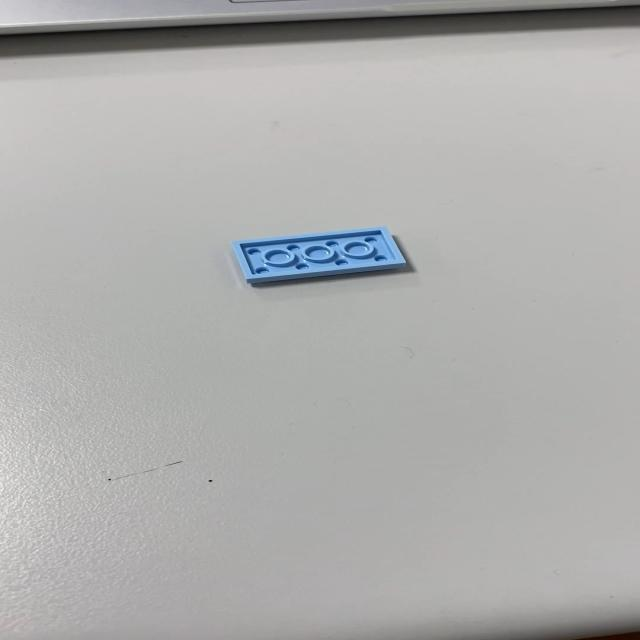C4x2x0: (230, 225, 407, 284)
